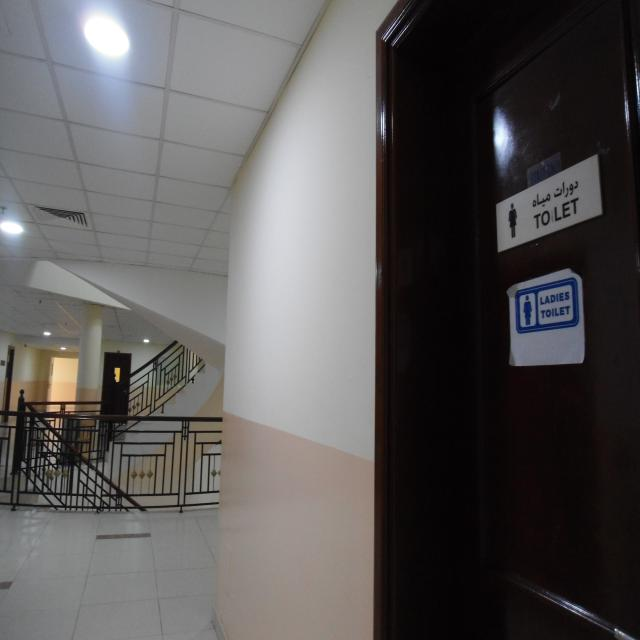door: (371, 0, 640, 640)
light: (80, 5, 134, 60)
railing: (0, 407, 233, 515), (18, 389, 140, 540), (98, 341, 205, 437)
sign: (473, 149, 611, 248), (505, 281, 592, 362)
wall: (214, 0, 374, 640)
